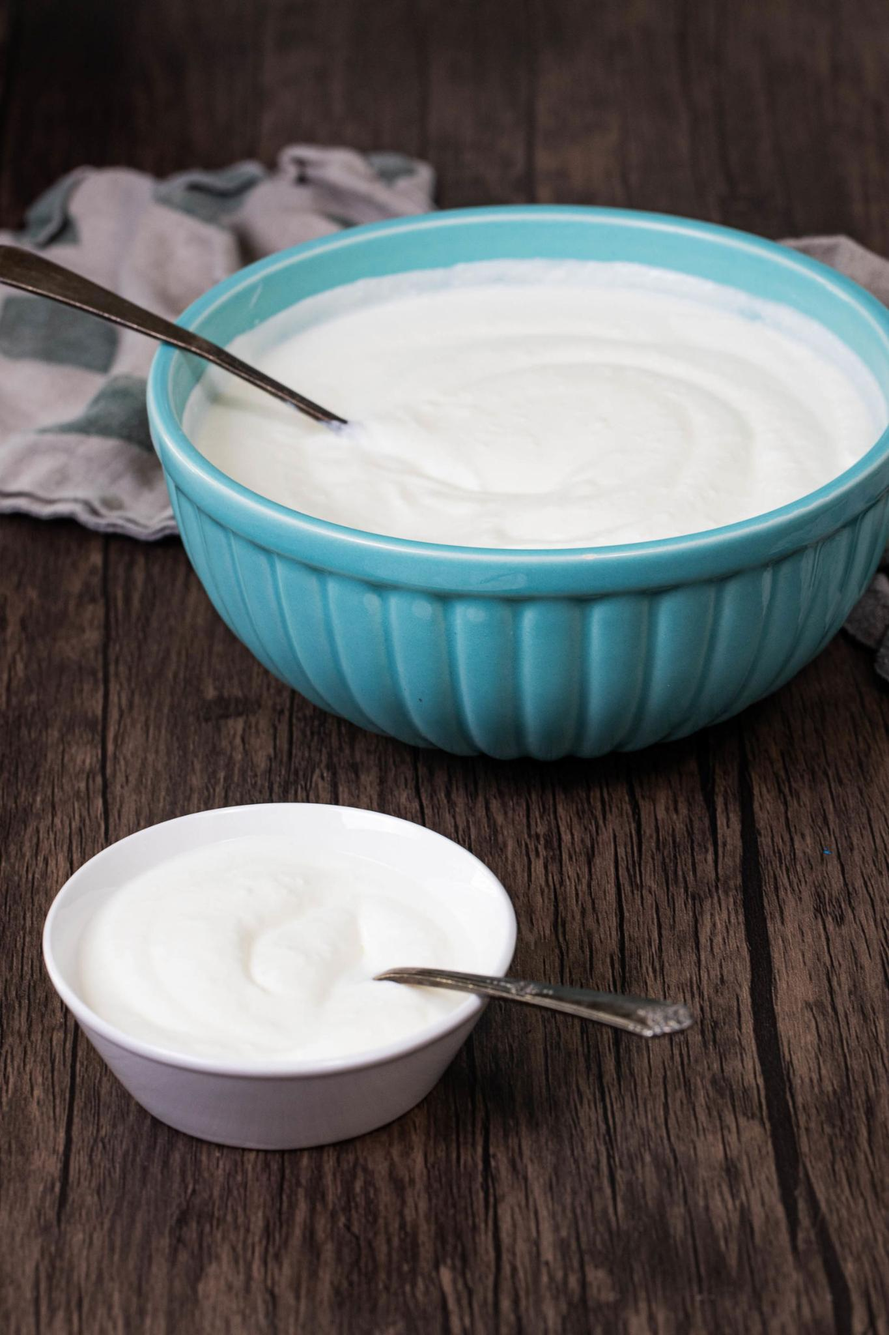yogurt: (161, 248, 889, 569), (50, 833, 561, 1077)
